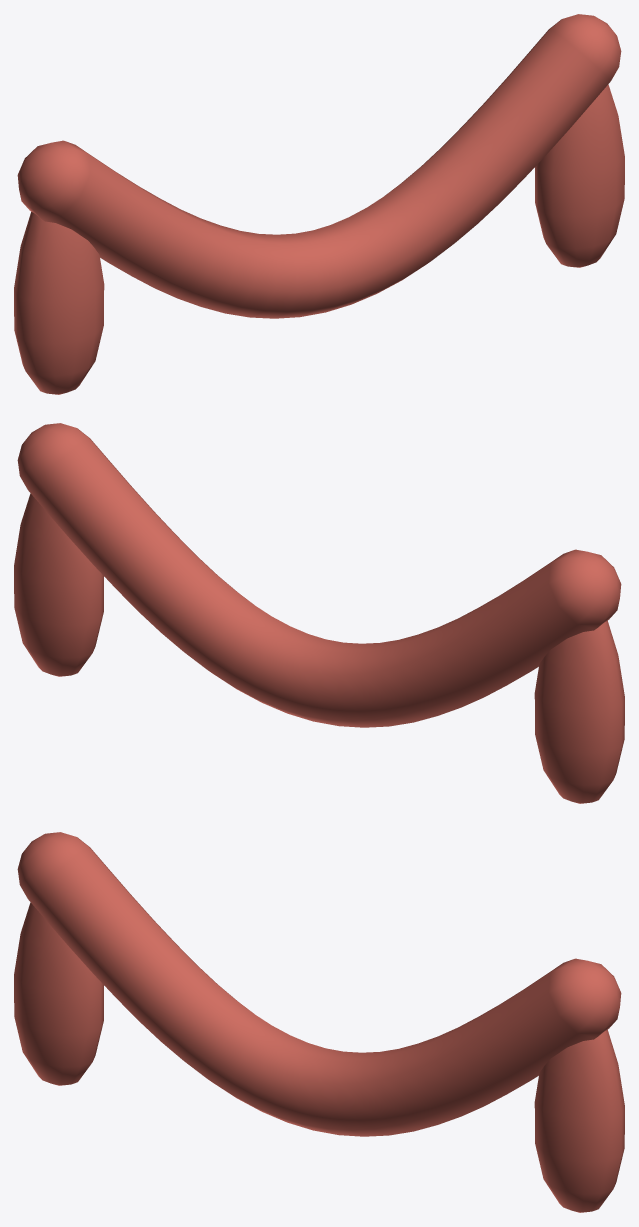
Rendered from swag_drapery.glb.
3 views of the same model, one above another, from view 1: azimuth 30°, elevation 25°; view 2: azimuth 150°, elevation 25°; view 3: azimuth 330°, elevation 25° (orthographic).
Parts seen in each view (by area): view 1: swag_drapery_mesh; view 2: swag_drapery_mesh; view 3: swag_drapery_mesh.
Part boxes in pixels (x1,y1,x2,y2): swag_drapery_mesh: (14,14,624,394); swag_drapery_mesh: (14,423,624,803); swag_drapery_mesh: (14,832,624,1212).
Size of the model in its own units: 1.16 by 0.458 by 0.14.
